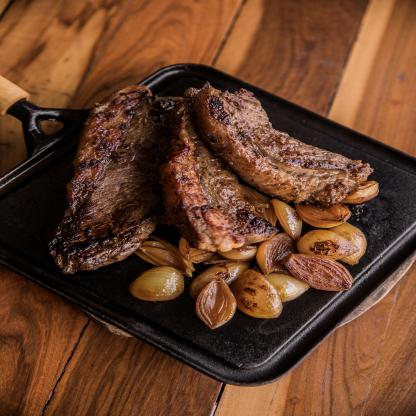Carne: (47, 83, 170, 273), (194, 80, 377, 203), (170, 101, 277, 250)
